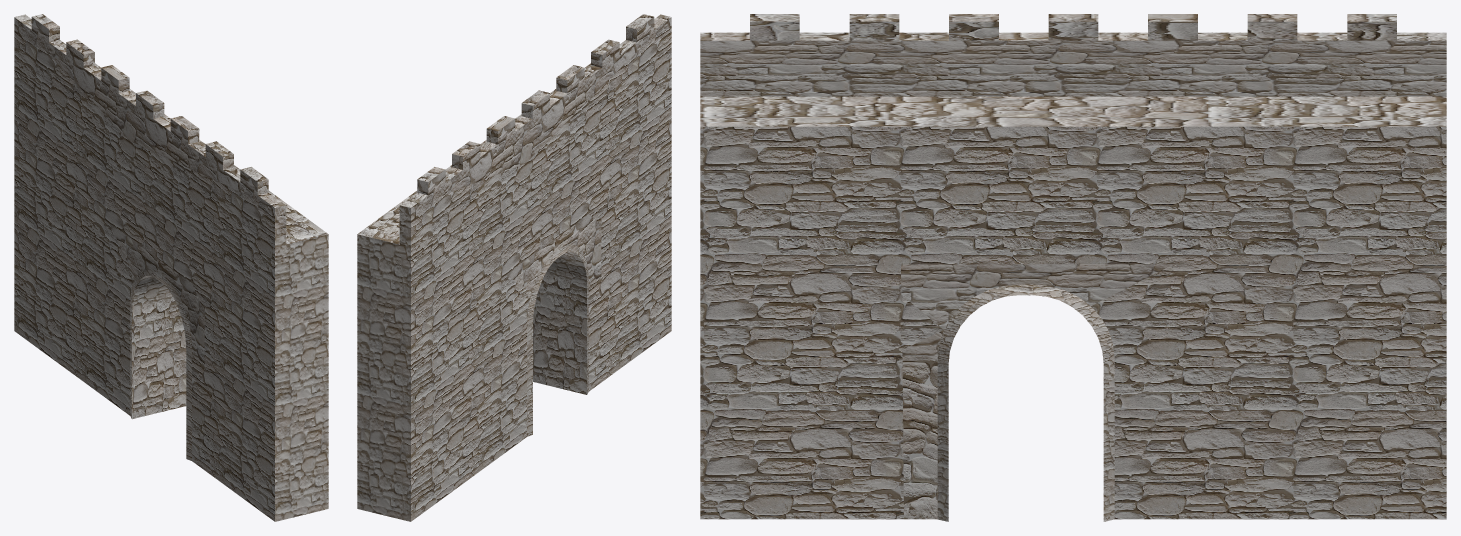
Rendered from wall_with_door_2.fbx.
3 renders of one model, left to right at view 1: azimuth 30°, elevation 25°; view 2: azimuth 150°, elevation 25°; view 3: azimuth 270°, elevation 25°, orthographic. The views are drawn at different scales.
Visible parts, largest first — view 1: Cube.025; view 2: Cube.025; view 3: Cube.025.
Part boxes in pixels (box(x1,y1,x2,y2)): Cube.025: box(14, 14, 328, 521); Cube.025: box(357, 14, 671, 521); Cube.025: box(700, 14, 1446, 521).
Size of the model in its own units: 221 by 1165 by 1685.
1 material, 1 textured.
